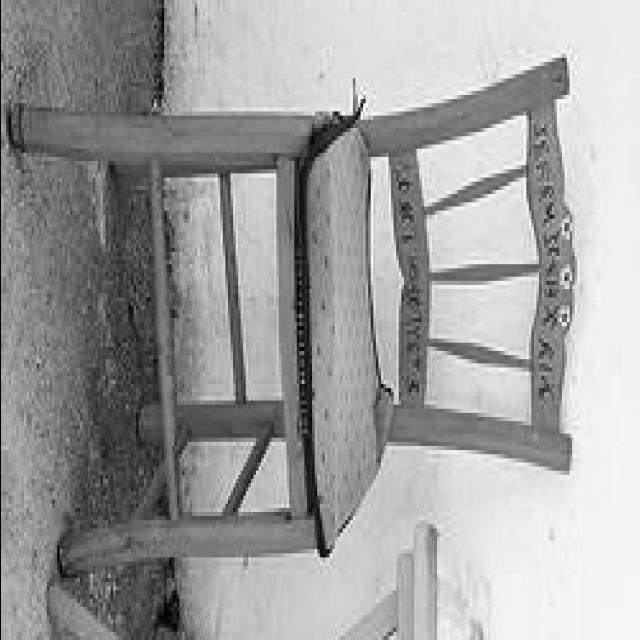chair: (8, 55, 578, 582)
